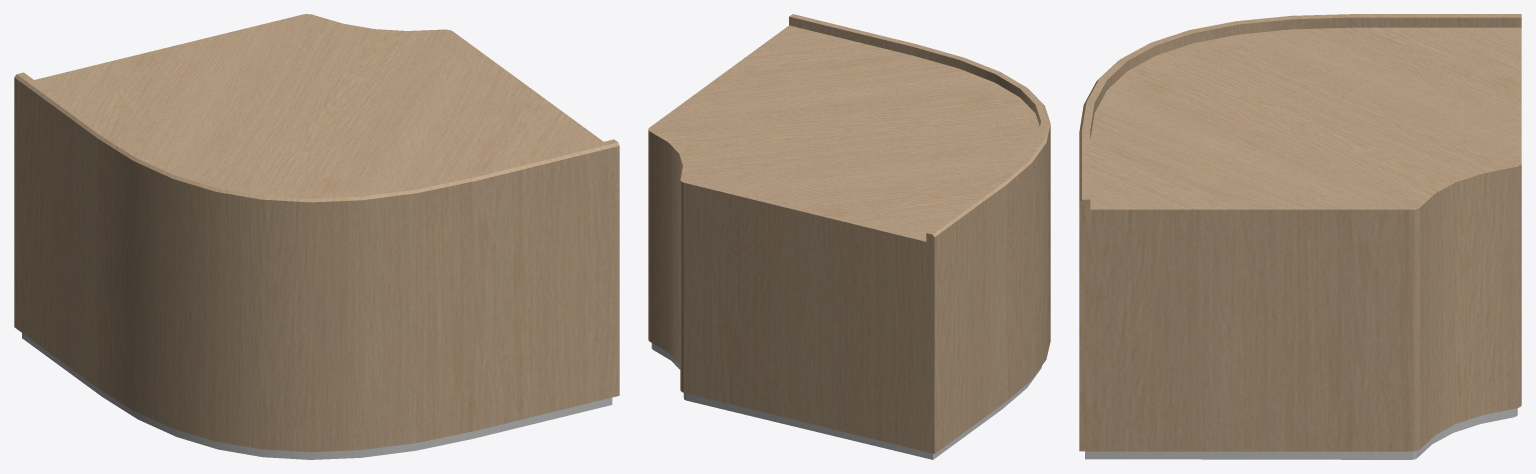
Rendered from D_Bench_303_a.fbx.
The picture shows the model from 3 angles, left to right: view 1: azimuth 30°, elevation 25°; view 2: azimuth 150°, elevation 25°; view 3: azimuth 270°, elevation 25°; orthographic projection. The views are drawn at different scales.
Visible parts, largest first — view 1: D_Bench_303_a; view 2: D_Bench_303_a; view 3: D_Bench_303_a.
Part boxes in pixels (x1,y1,x2,y2): D_Bench_303_a: (14,14,619,459); D_Bench_303_a: (648,14,1050,459); D_Bench_303_a: (1079,14,1521,459).
Bounding box in the file's own units: 0.796 × 0.52 × 0.796.
